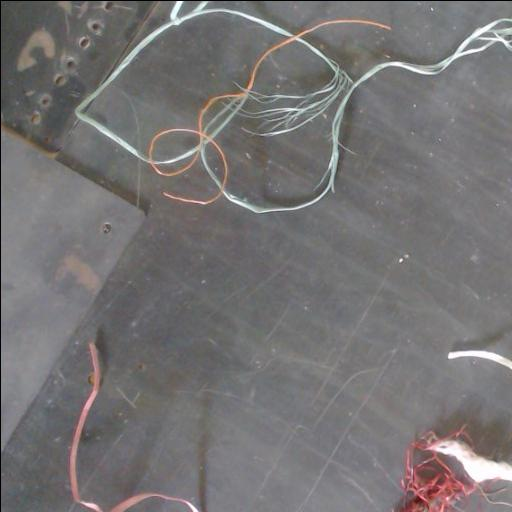conveyor belt: (1, 45, 512, 512), (88, 14, 283, 151), (208, 1, 512, 77), (1, 2, 109, 143)
thread: (75, 1, 512, 212), (393, 425, 512, 512), (69, 342, 105, 512), (107, 492, 201, 512), (448, 349, 512, 370), (448, 350, 512, 370)
